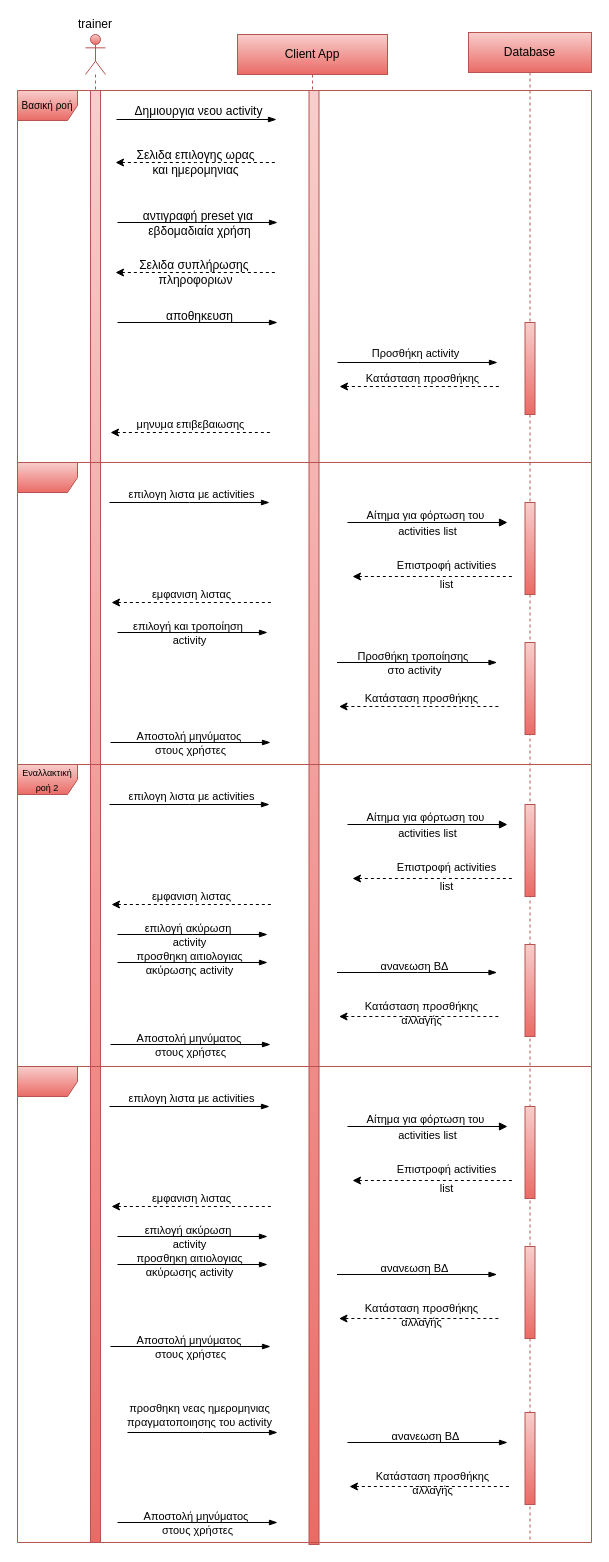
Image size: 609x1562. Some labels were removed from this diagram. Each missing label, with the centre of its shape:
Εναλλακτική ροή 1: the point at 304,613
Εναλλακτική ροή 3: the point at 304,1304
